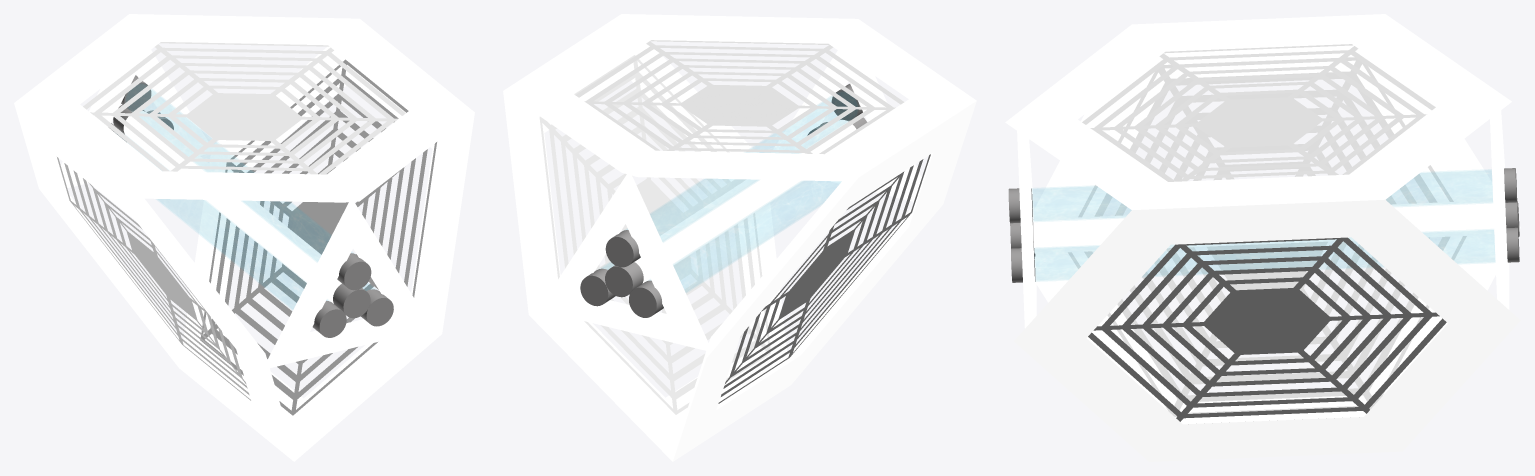
Rendered from hive_module.glb.
The picture shows the model from 3 angles, left to right: view 1: azimuth 30°, elevation 25°; view 2: azimuth 150°, elevation 25°; view 3: azimuth 270°, elevation 25°; orthographic projection. The views are drawn at different scales.
Parts seen in each view (by area): view 1: Object_7, Object_3, Object_6, Object_5, Object_4; view 2: Object_7, Object_3, Object_6, Object_5, Object_4; view 3: Object_7, Object_3, Object_6, Object_5, Object_4.
Boxes of the visible parts, left/top/right/bottom form: Object_7: left=14, top=14, right=474, bottom=461; Object_3: left=57, top=42, right=436, bottom=415; Object_6: left=128, top=89, right=373, bottom=308; Object_5: left=123, top=111, right=341, bottom=303; Object_4: left=108, top=75, right=393, bottom=337; Object_7: left=503, top=14, right=976, bottom=461; Object_3: left=539, top=40, right=930, bottom=414; Object_6: left=603, top=92, right=856, bottom=291; Object_5: left=634, top=120, right=856, bottom=283; Object_4: left=580, top=84, right=867, bottom=317; Object_7: left=1005, top=14, right=1520, bottom=461; Object_3: left=1068, top=44, right=1466, bottom=421; Object_6: left=1033, top=170, right=1494, bottom=280; Object_5: left=1033, top=200, right=1494, bottom=253; Object_4: left=1008, top=168, right=1519, bottom=282.
Size of the model in its own units: 1.91 by 1.72 by 2.24.
Materials: 5 (1 with a texture image).
